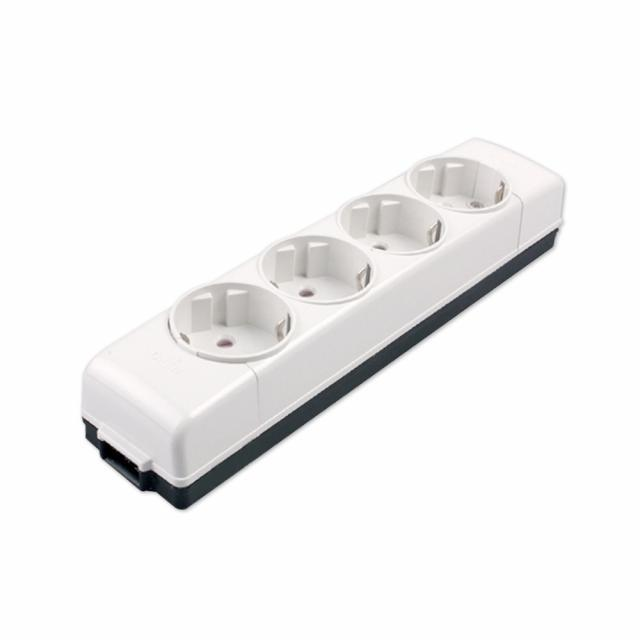typeb: (69, 81, 586, 535)
